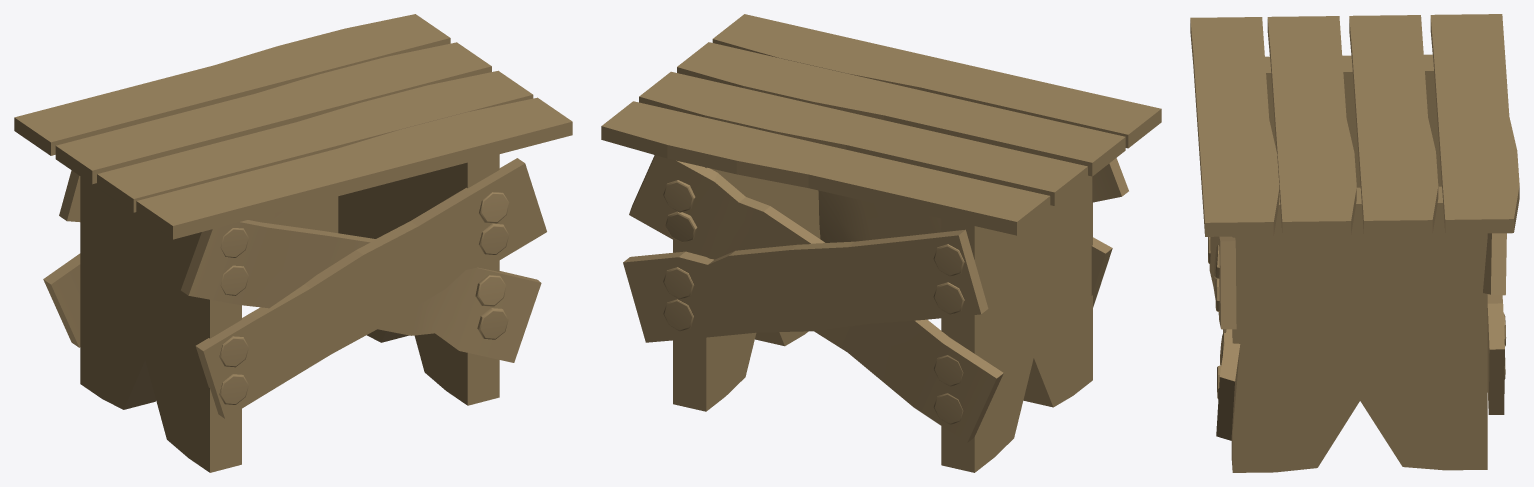
Rendered from M_Banca Madera.fbx.
3 views of the same model, side by side, from view 1: azimuth 30°, elevation 25°; view 2: azimuth 150°, elevation 25°; view 3: azimuth 270°, elevation 25° (orthographic). The views are drawn at different scales.
Visible parts, largest first — view 1: pPlane56; view 2: pPlane56; view 3: pPlane56.
Boxes of the visible parts, box(x1,y1,x2,y2) form: pPlane56: box(14, 14, 572, 472); pPlane56: box(601, 14, 1161, 472); pPlane56: box(1190, 14, 1519, 472).
Bounding box in the file's own units: 11.29 × 7.06 × 7.52.
